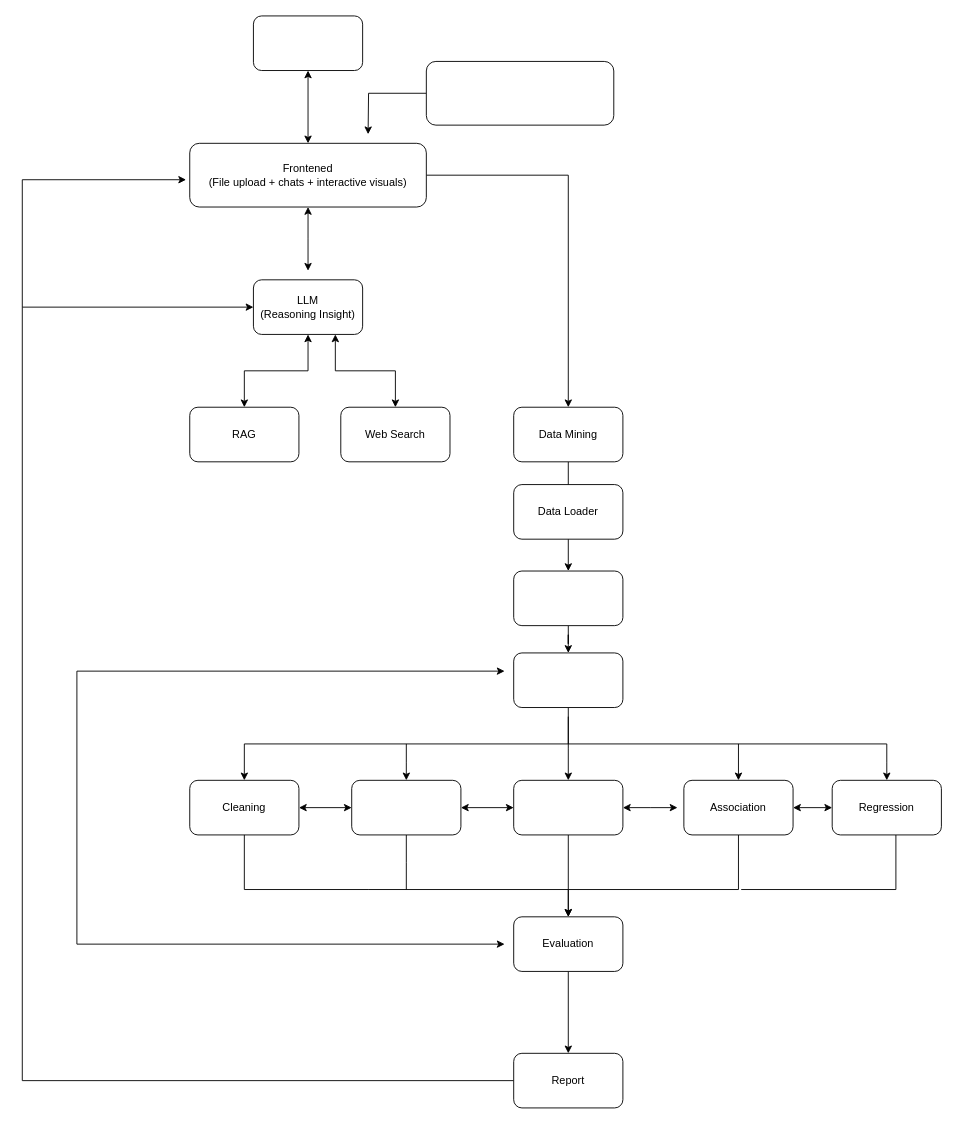
Some shapes in this 957 by 1124 pixel diagram are drawn without their labels. Each missing label, with the centre of its shape:
Classification: (x=406, y=807)
Clustering: (x=568, y=807)
Dat a (Not limited to any specific Dataset): (x=519, y=93)
Data Profiler: (x=568, y=598)
LLM (One shot planner): (x=568, y=680)
User: (x=308, y=43)
